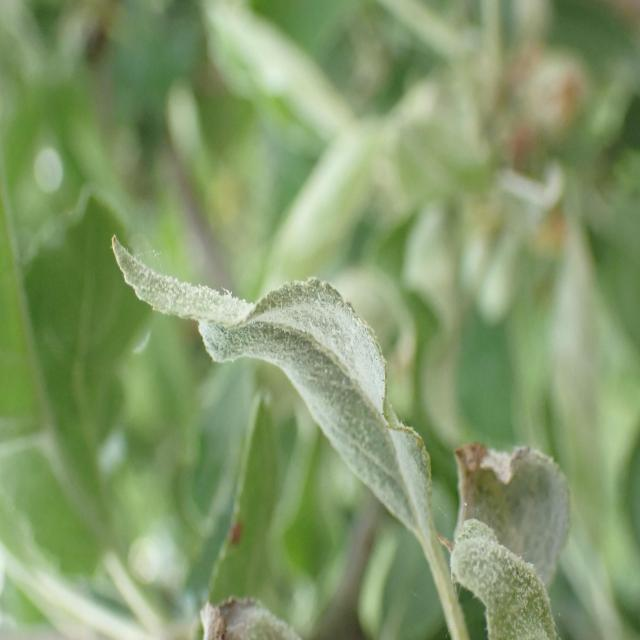Powdery_mildew: (114, 217, 454, 640), (436, 428, 602, 636)
